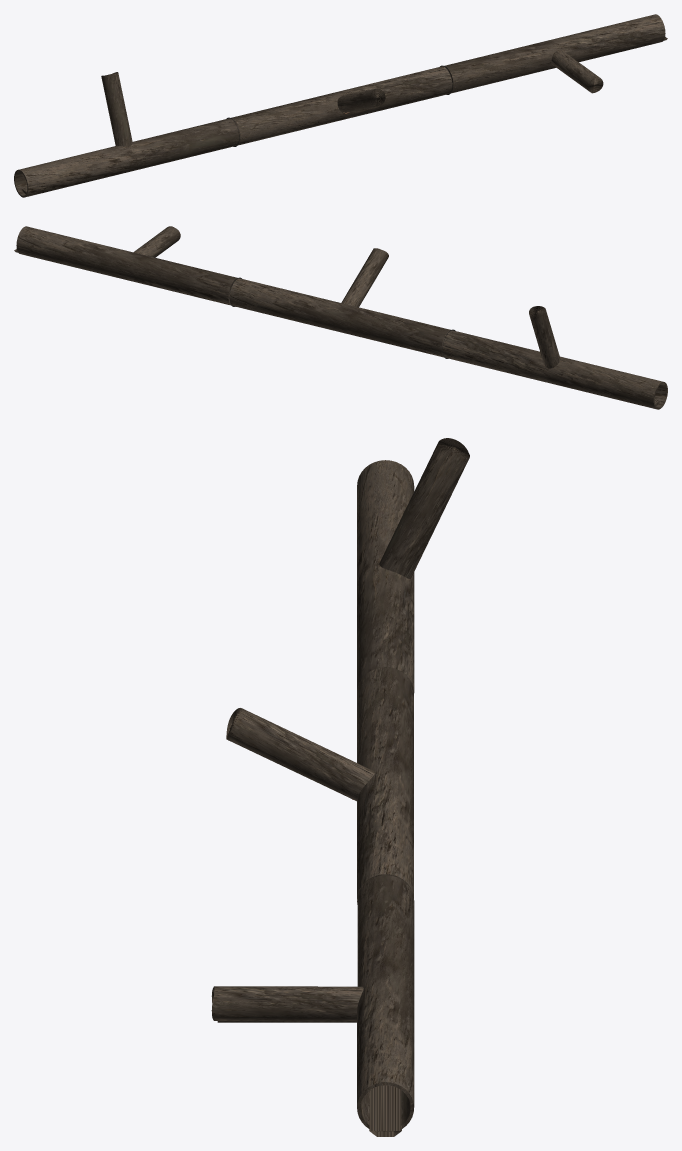
The model's file is SewerPipe 1.fbx.
The picture shows the model from 3 angles, top to bottom: view 1: azimuth 30°, elevation 25°; view 2: azimuth 150°, elevation 25°; view 3: azimuth 270°, elevation 25°; orthographic projection. The views are drawn at different scales.
Visible parts, largest first — view 1: Cylinder, Cylinder.004, Cylinder.002, TF, TF.001, TF.003; view 2: Cylinder, Cylinder.004, Cylinder.002, TF.003, TF, TF.001; view 3: Cylinder.004, Cylinder.002, Cylinder, TF.003, TF.001, TF, Cube.
Part boxes in pixels (left/top/right/bottom): Cylinder: left=14, top=118, right=240, bottom=197; Cylinder.004: left=444, top=14, right=665, bottom=93; Cylinder.002: left=231, top=66, right=452, bottom=145; TF: left=101, top=72, right=132, bottom=146; TF.001: left=551, top=49, right=603, bottom=92; TF.003: left=337, top=88, right=385, bottom=113; Cylinder: left=441, top=330, right=667, bottom=409; Cylinder.004: left=16, top=226, right=237, bottom=305; Cylinder.002: left=229, top=278, right=450, bottom=357; TF.003: left=341, top=248, right=388, bottom=307; TF: left=529, top=306, right=560, bottom=368; TF.001: left=133, top=226, right=180, bottom=257; Cylinder.004: left=357, top=875, right=414, bottom=1131; Cylinder.002: left=357, top=667, right=413, bottom=899; Cylinder: left=357, top=460, right=414, bottom=692; TF.003: left=226, top=708, right=374, bottom=801; TF.001: left=211, top=986, right=363, bottom=1021; TF: left=379, top=438, right=469, bottom=578; Cube: left=369, top=1085, right=401, bottom=1136.
Size of the model in its own units: 5197 by 672 by 904.
15 materials, 12 textured.
